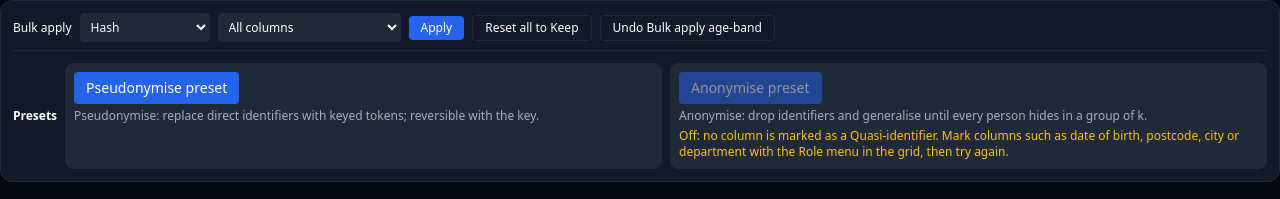
Test: BulkPolicyBar › Reset all to Keep
Click the button "Reset all to Keep". click: (532, 28)
box: [472,14,592,40]
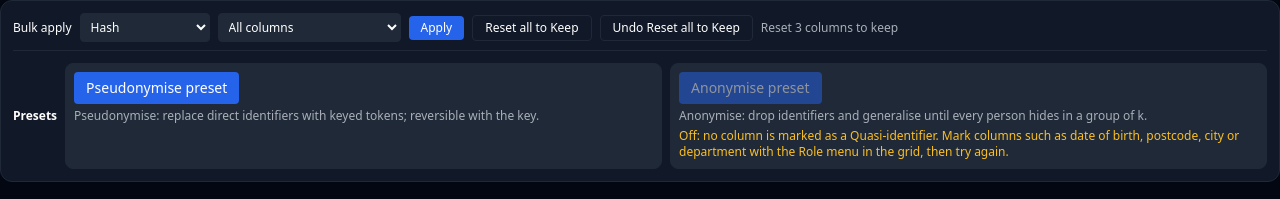
Expected: the message reads "Reset 3 columns to keep", [761,18,898,36]
